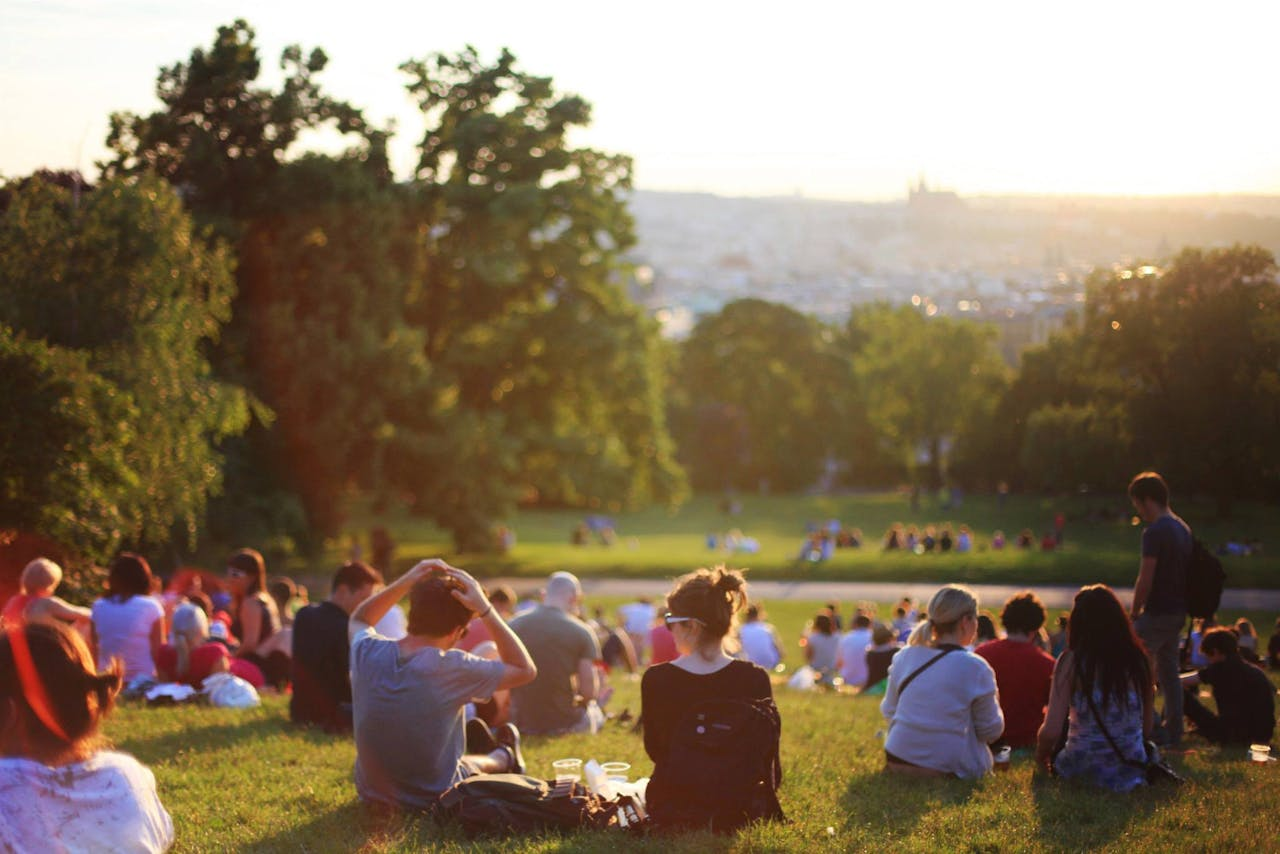person: (357, 529, 535, 823), (635, 554, 786, 817), (1118, 464, 1223, 714), (890, 567, 1008, 789), (1046, 576, 1155, 793)
